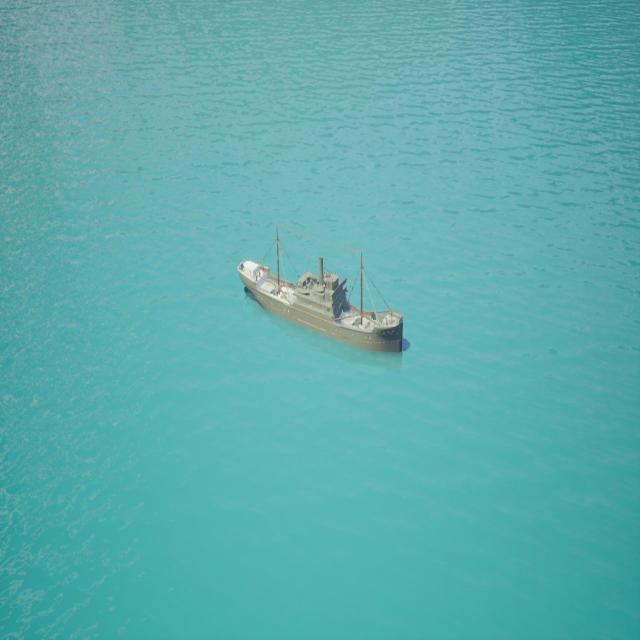fishing ship: (238, 249, 406, 359)
